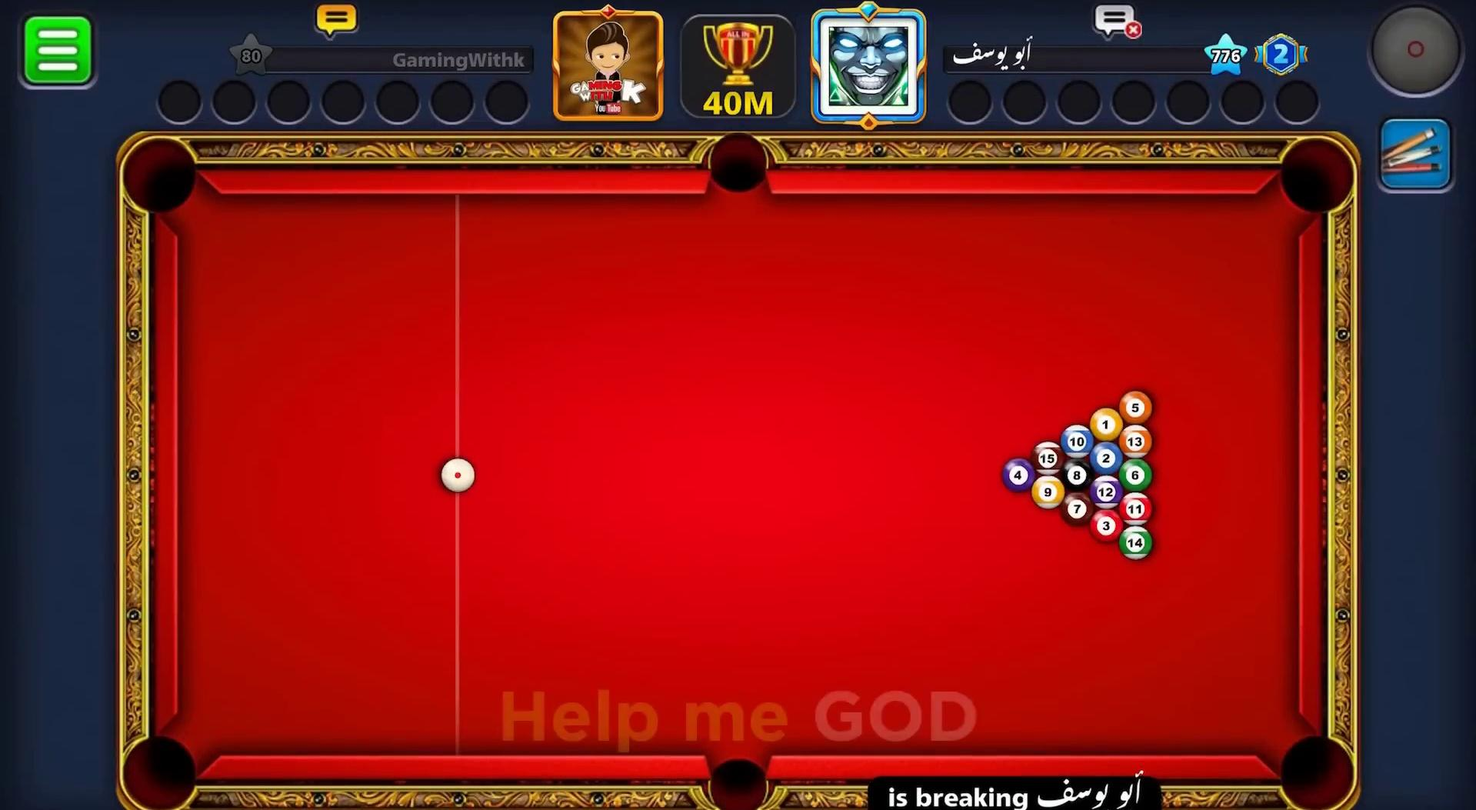Ball: (1118, 493, 1156, 527), (1119, 391, 1155, 425), (1032, 441, 1065, 476), (1120, 458, 1153, 492), (1120, 426, 1153, 460), (1003, 458, 1035, 493), (1090, 407, 1122, 441), (1062, 425, 1094, 459), (1121, 526, 1152, 561), (1033, 477, 1064, 511), (1091, 440, 1121, 475), (1063, 493, 1093, 527), (1092, 510, 1122, 541), (1062, 461, 1092, 490), (1094, 477, 1121, 509)
Hole: (1277, 136, 1354, 214), (121, 137, 197, 211), (123, 733, 199, 806), (1281, 735, 1354, 810), (708, 133, 768, 193), (710, 759, 768, 810)
Play_Area: (180, 196, 1298, 756)
Spin: (1376, 7, 1459, 96)
White: (441, 457, 476, 492)
